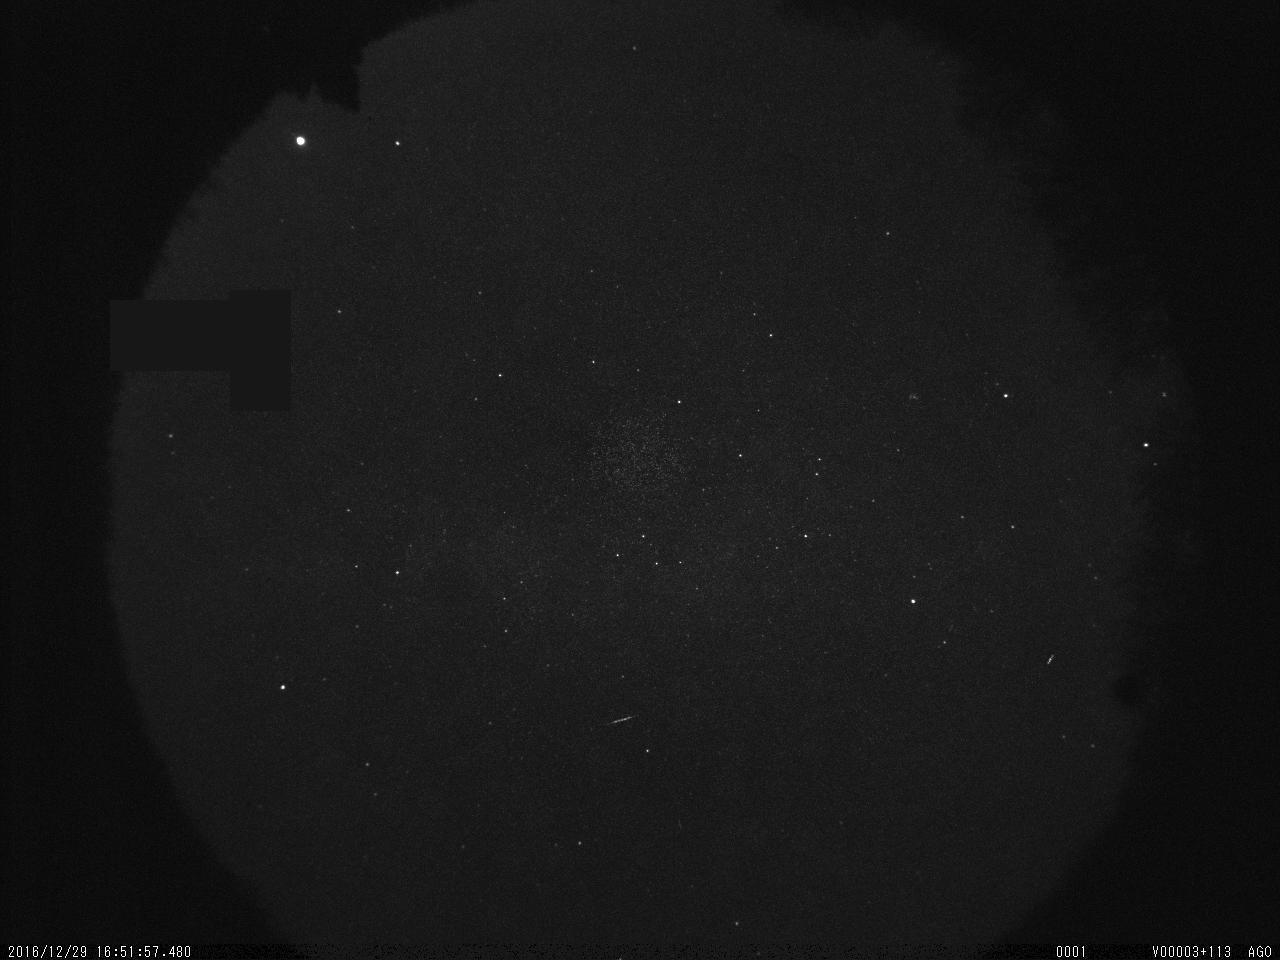meteor: (602, 704, 643, 735)
